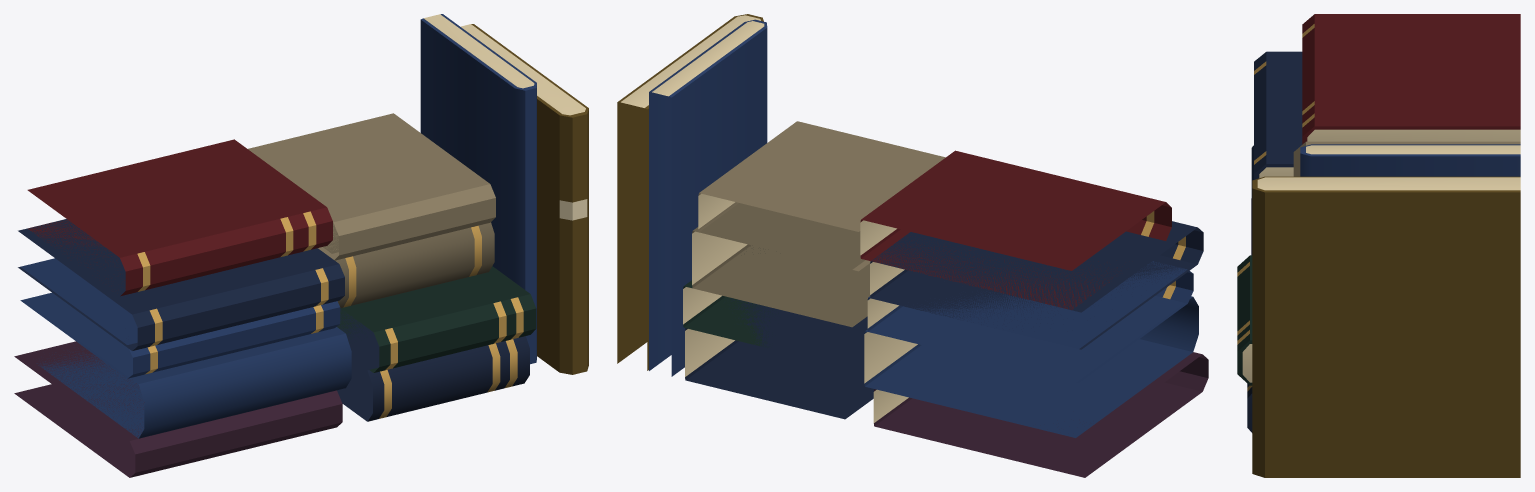
The model's file is bookrow_short_3.glb.
The picture shows the model from 3 angles, left to right: view 1: azimuth 30°, elevation 25°; view 2: azimuth 150°, elevation 25°; view 3: azimuth 270°, elevation 25°; orthographic projection. The views are drawn at different scales.
Visible parts, largest first — view 1: bookrow_short_3; view 2: bookrow_short_3; view 3: bookrow_short_3.
Boxes of the visible parts, left/top/right/bottom form: bookrow_short_3: left=14, top=14, right=588, bottom=477; bookrow_short_3: left=617, top=14, right=1208, bottom=477; bookrow_short_3: left=1237, top=14, right=1520, bottom=477.
Size of the model in its own units: 0.488 by 0.2791 by 0.2346.
